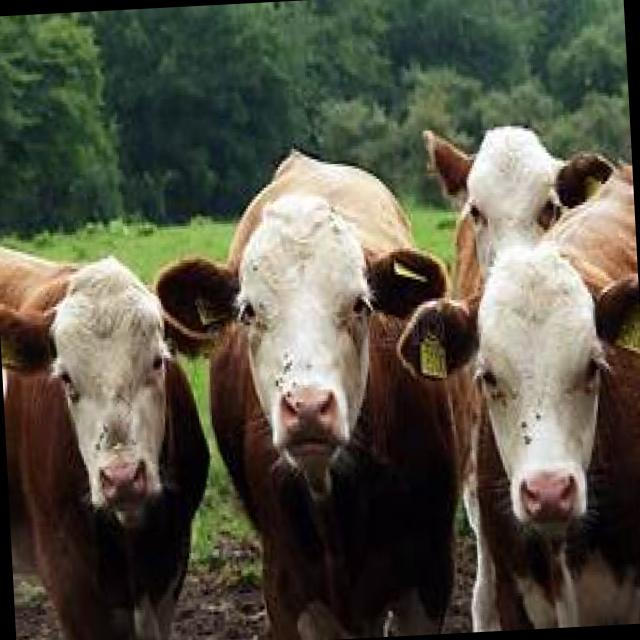animal: (150, 140, 481, 640), (396, 240, 640, 635), (0, 256, 217, 640), (416, 121, 640, 357)
